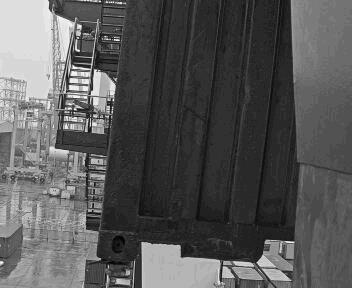twist_lock_1: (106, 172, 156, 206)
